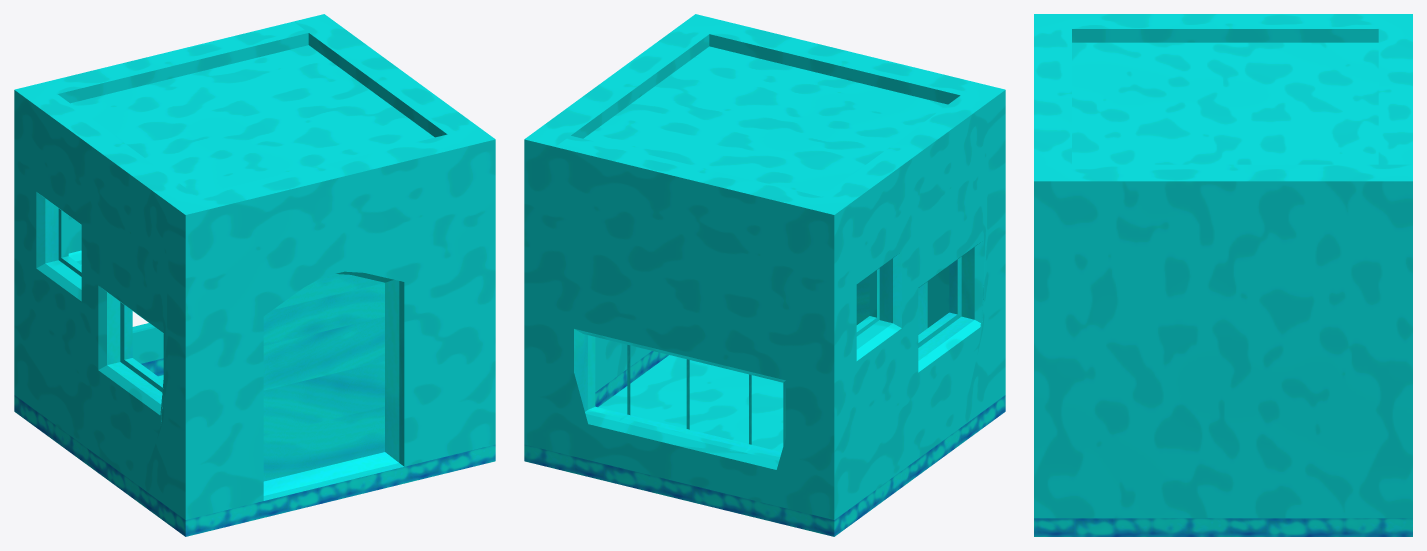
Rendered from SM_House_Part_01.fbx.
The picture shows the model from 3 angles, left to right: view 1: azimuth 30°, elevation 25°; view 2: azimuth 150°, elevation 25°; view 3: azimuth 270°, elevation 25°; orthographic projection. The views are drawn at different scales.
Parts seen in each view (by area): view 1: SM_House_Part_01; view 2: SM_House_Part_01; view 3: SM_House_Part_01.
Part boxes in pixels (x1,y1,x2,y2): SM_House_Part_01: [14, 14, 495, 536]; SM_House_Part_01: [524, 14, 1005, 536]; SM_House_Part_01: [1034, 14, 1412, 536].
Bounding box in the file's own units: 8.95 × 8.87 × 8.56.
Materials: 1 (1 with a texture image).
